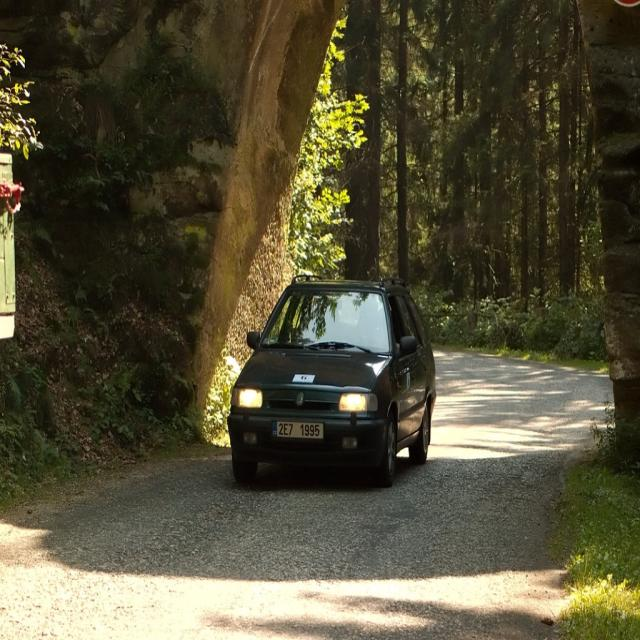car: (228, 271, 435, 483)
